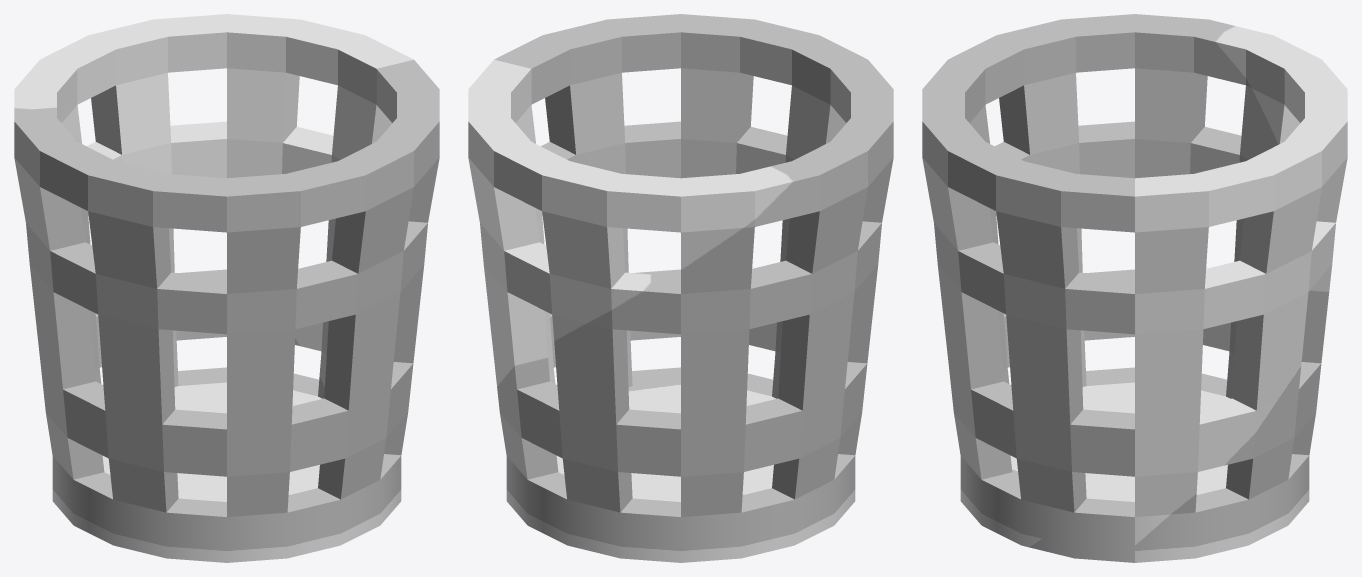
The model's file is Copo para Lápis 2.FBX.
3 renders of one model, left to right at view 1: azimuth 30°, elevation 25°; view 2: azimuth 150°, elevation 25°; view 3: azimuth 270°, elevation 25°, orthographic.
Parts seen in each view (by area): view 1: Cylinder009; view 2: Cylinder009; view 3: Cylinder009.
Boxes of the visible parts, x1,y1,x2,y2 form: Cylinder009: (14, 14, 439, 562); Cylinder009: (468, 14, 893, 562); Cylinder009: (922, 14, 1347, 562).
Size of the model in its own units: 69.52 by 67.95 by 68.46.
